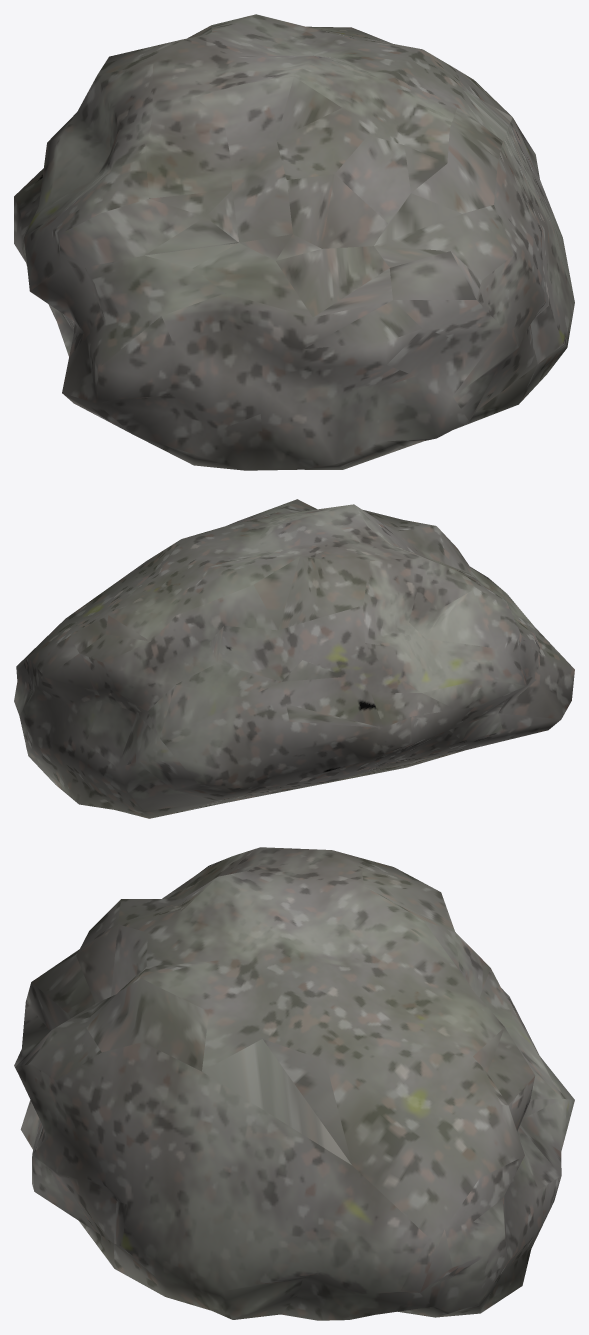
Rendered from boulder_050_LOD1.glb.
The picture shows the model from 3 angles, top to bottom: view 1: azimuth 30°, elevation 25°; view 2: azimuth 150°, elevation 25°; view 3: azimuth 270°, elevation 25°; orthographic projection. The views are drawn at different scales.
Parts seen in each view (by area): view 1: Boulder_050_LOD1; view 2: Boulder_050_LOD1; view 3: Boulder_050_LOD1.
Part boxes in pixels (x1,y1,x2,y2): Boulder_050_LOD1: (14,14,574,470); Boulder_050_LOD1: (14,499,574,818); Boulder_050_LOD1: (14,847,574,1320).
Bounding box in the file's own units: 0.4788 × 0.2651 × 0.4099.
Materials: 1 (1 with a texture image).
